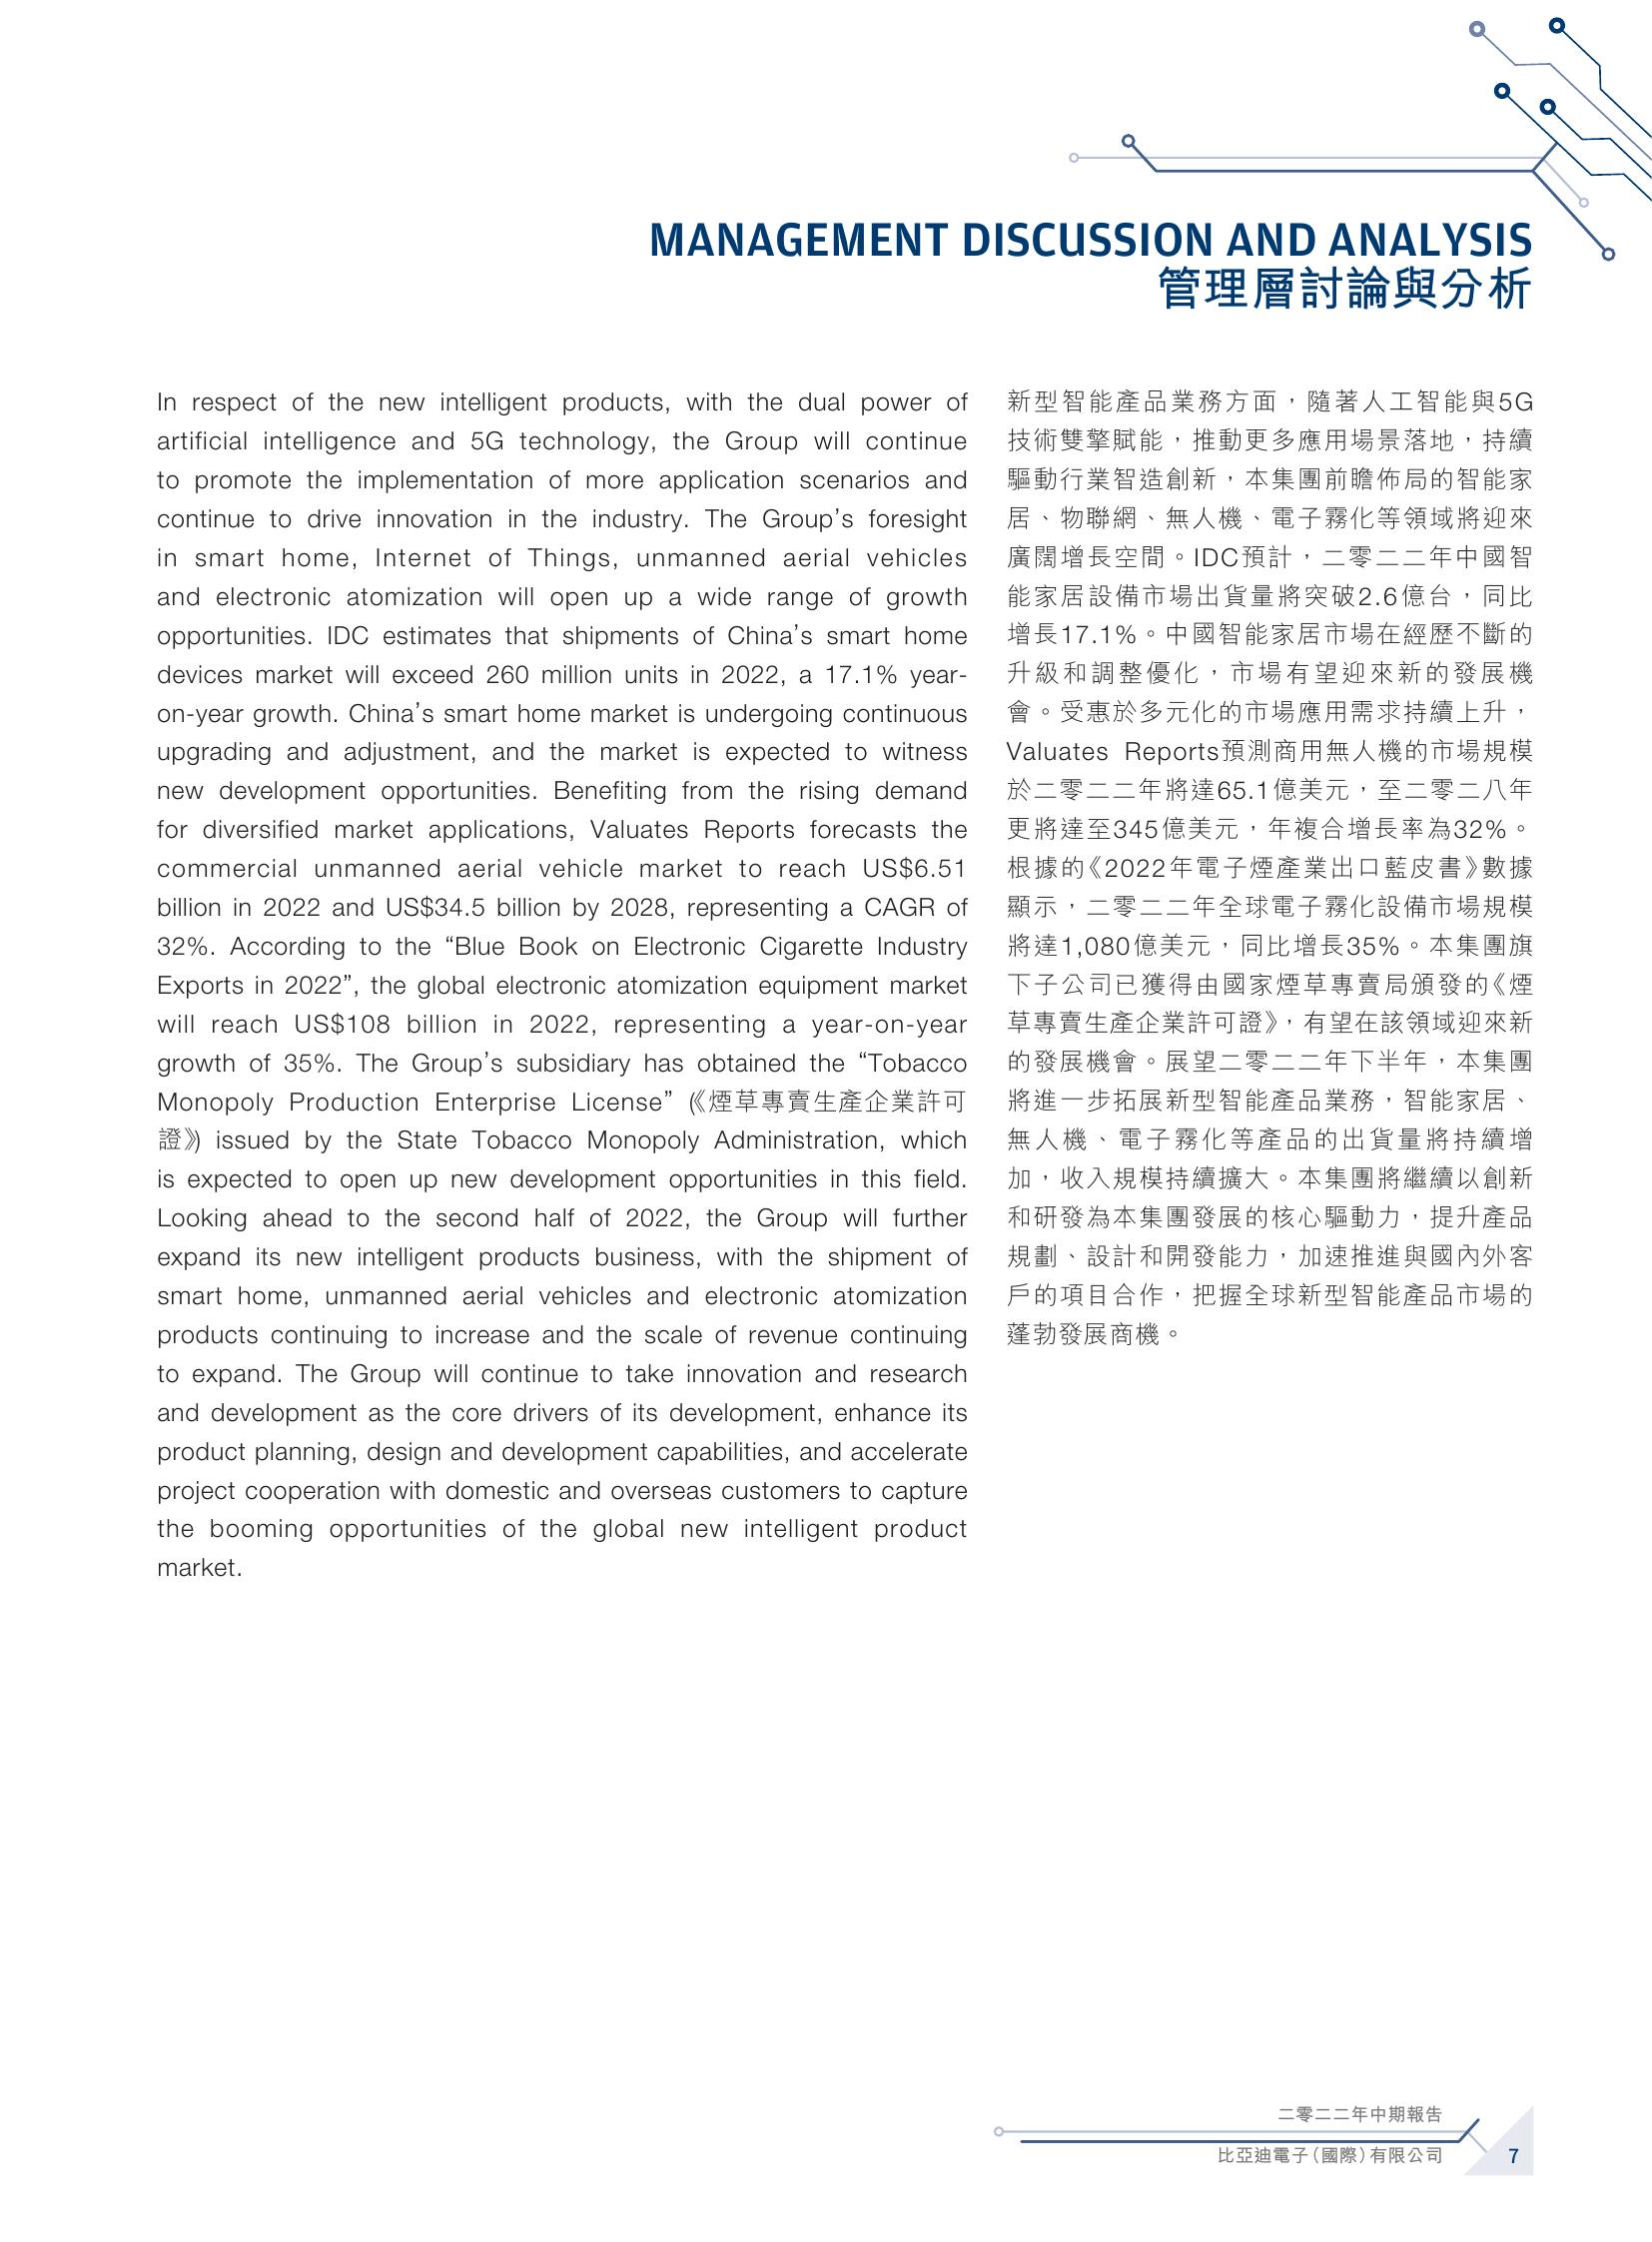Footer: (0, 2071, 1652, 2242)
Header: (0, 0, 1652, 200)
